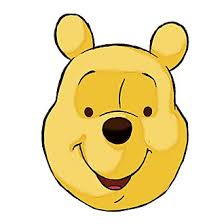Winnie: (37, 11, 199, 214)
